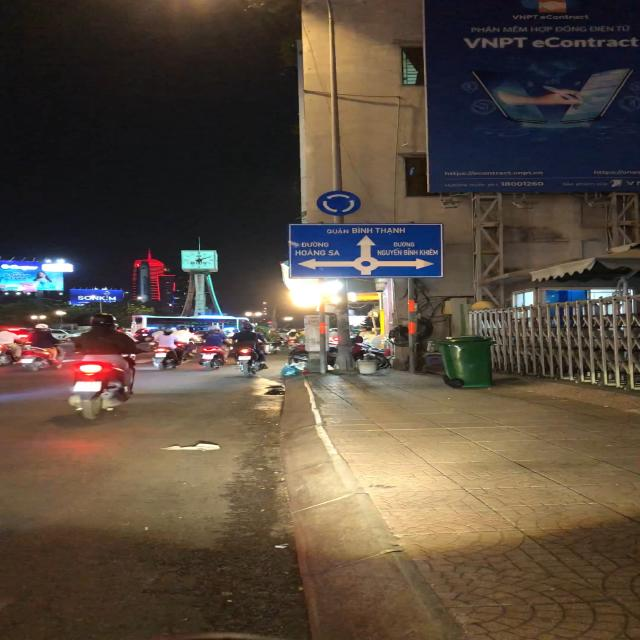Bien bao noi giao nhau chay theo vong xuyen: (316, 188, 362, 216)
